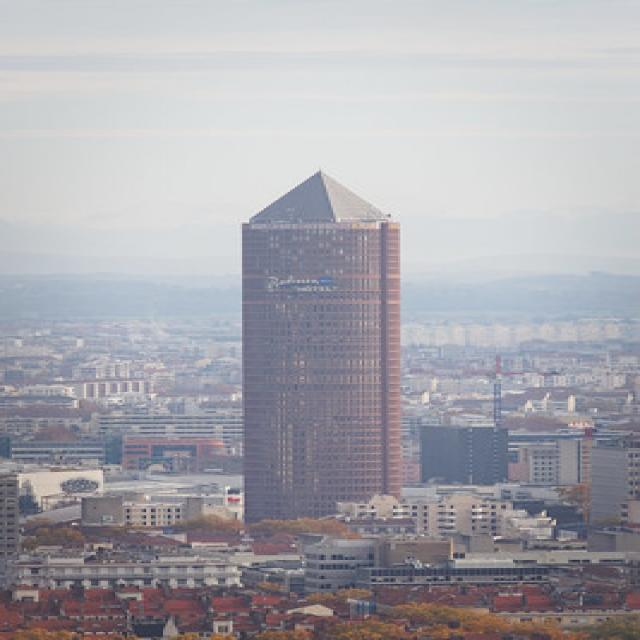Normal_building: (232, 167, 410, 548)
